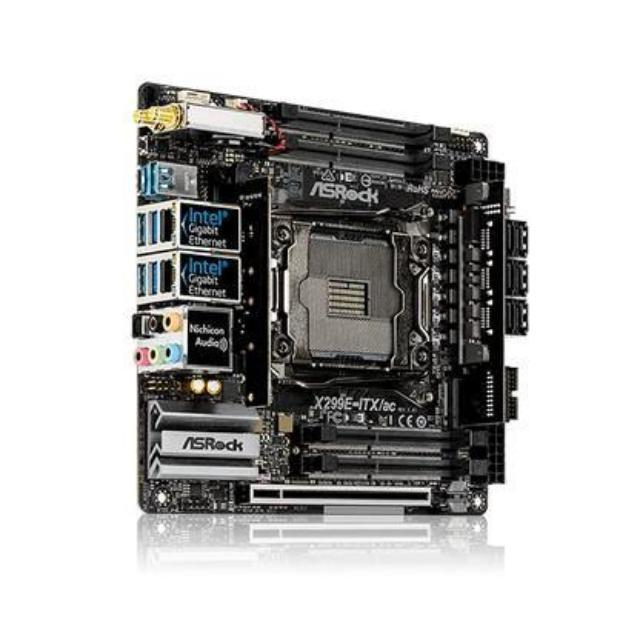Mainboard: (131, 76, 514, 524)
